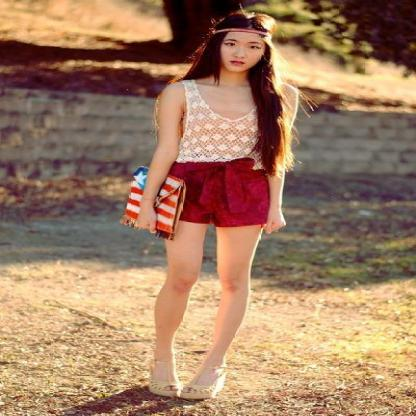bag: (127, 171, 201, 239)
shirt: (176, 80, 261, 169)
shoe: (140, 374, 227, 398)
shorts: (160, 158, 270, 227)
